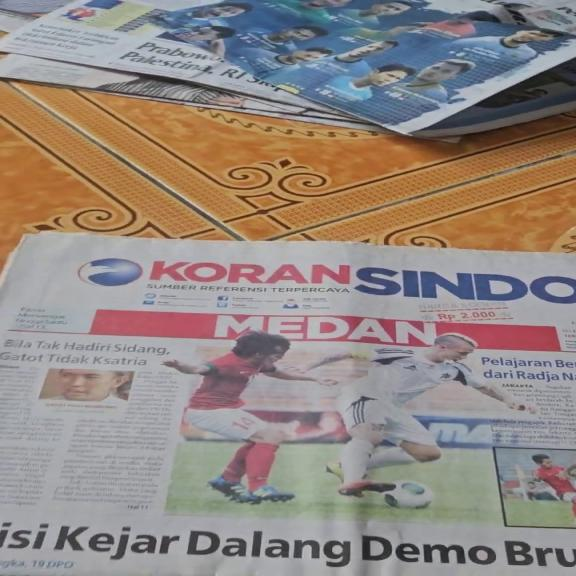Kertas: (3, 248, 568, 576), (0, 344, 192, 516)
